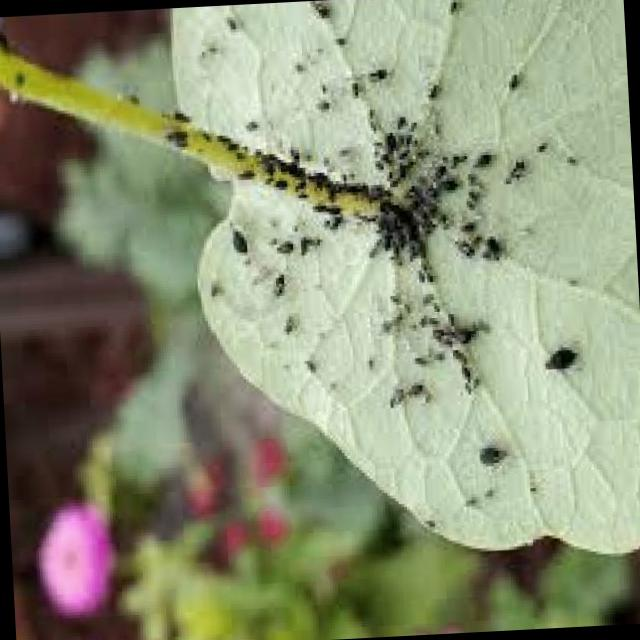aphid: (530, 334, 578, 376), (416, 69, 446, 106), (468, 438, 504, 467), (446, 318, 478, 350), (463, 142, 495, 174), (262, 262, 290, 298), (222, 218, 248, 256), (362, 54, 391, 88), (378, 380, 408, 410), (234, 105, 263, 136), (373, 123, 399, 157), (338, 67, 363, 101), (272, 306, 298, 338), (404, 345, 432, 373), (358, 177, 388, 203), (432, 168, 460, 195), (386, 104, 410, 135), (398, 372, 426, 398), (451, 210, 476, 238), (299, 0, 330, 22), (412, 508, 440, 532), (498, 64, 522, 92), (492, 162, 520, 186), (424, 202, 448, 230), (454, 484, 480, 509), (287, 227, 310, 255), (412, 284, 437, 309), (479, 229, 504, 254), (325, 25, 350, 50), (213, 7, 238, 32), (172, 97, 192, 128), (424, 156, 452, 178), (265, 168, 290, 192), (208, 122, 231, 148), (294, 348, 318, 372), (318, 196, 342, 220), (200, 274, 223, 299), (284, 166, 306, 192), (355, 348, 378, 372), (307, 90, 332, 112), (328, 137, 353, 159), (374, 226, 394, 253), (420, 343, 448, 362), (378, 283, 402, 305), (556, 268, 580, 290), (230, 160, 254, 182), (444, 342, 470, 362), (423, 292, 443, 318), (217, 131, 240, 153), (304, 193, 327, 215), (338, 173, 361, 195), (388, 152, 408, 177), (268, 234, 294, 253), (280, 52, 306, 71), (308, 75, 331, 96), (434, 0, 465, 15), (555, 146, 578, 166), (504, 152, 528, 171), (476, 477, 496, 499), (528, 133, 548, 155), (460, 178, 480, 200), (455, 191, 475, 213), (450, 358, 473, 377), (393, 294, 416, 313), (519, 475, 539, 494), (437, 304, 457, 323), (410, 306, 427, 328), (421, 308, 438, 330), (408, 260, 424, 282), (418, 266, 436, 282)
